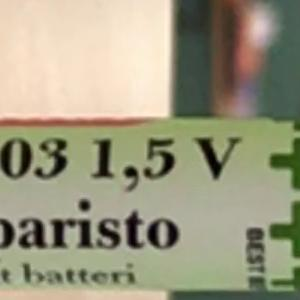1,5V: (81, 127, 252, 189)
